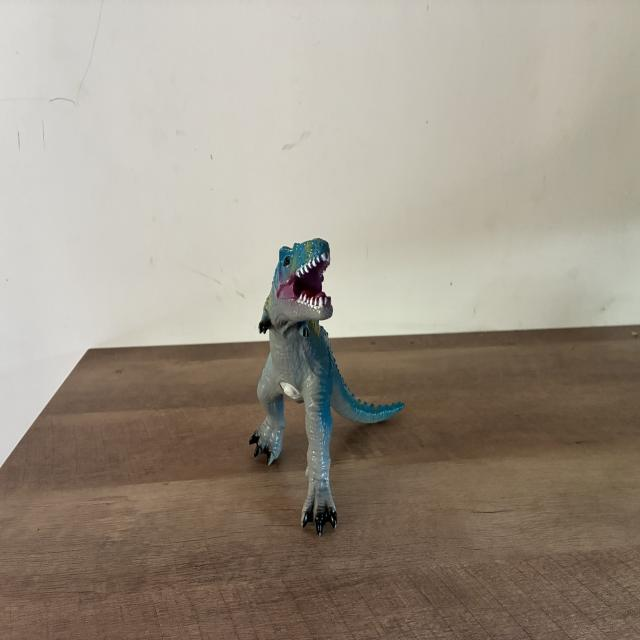dinosaur: (249, 238, 404, 535)
